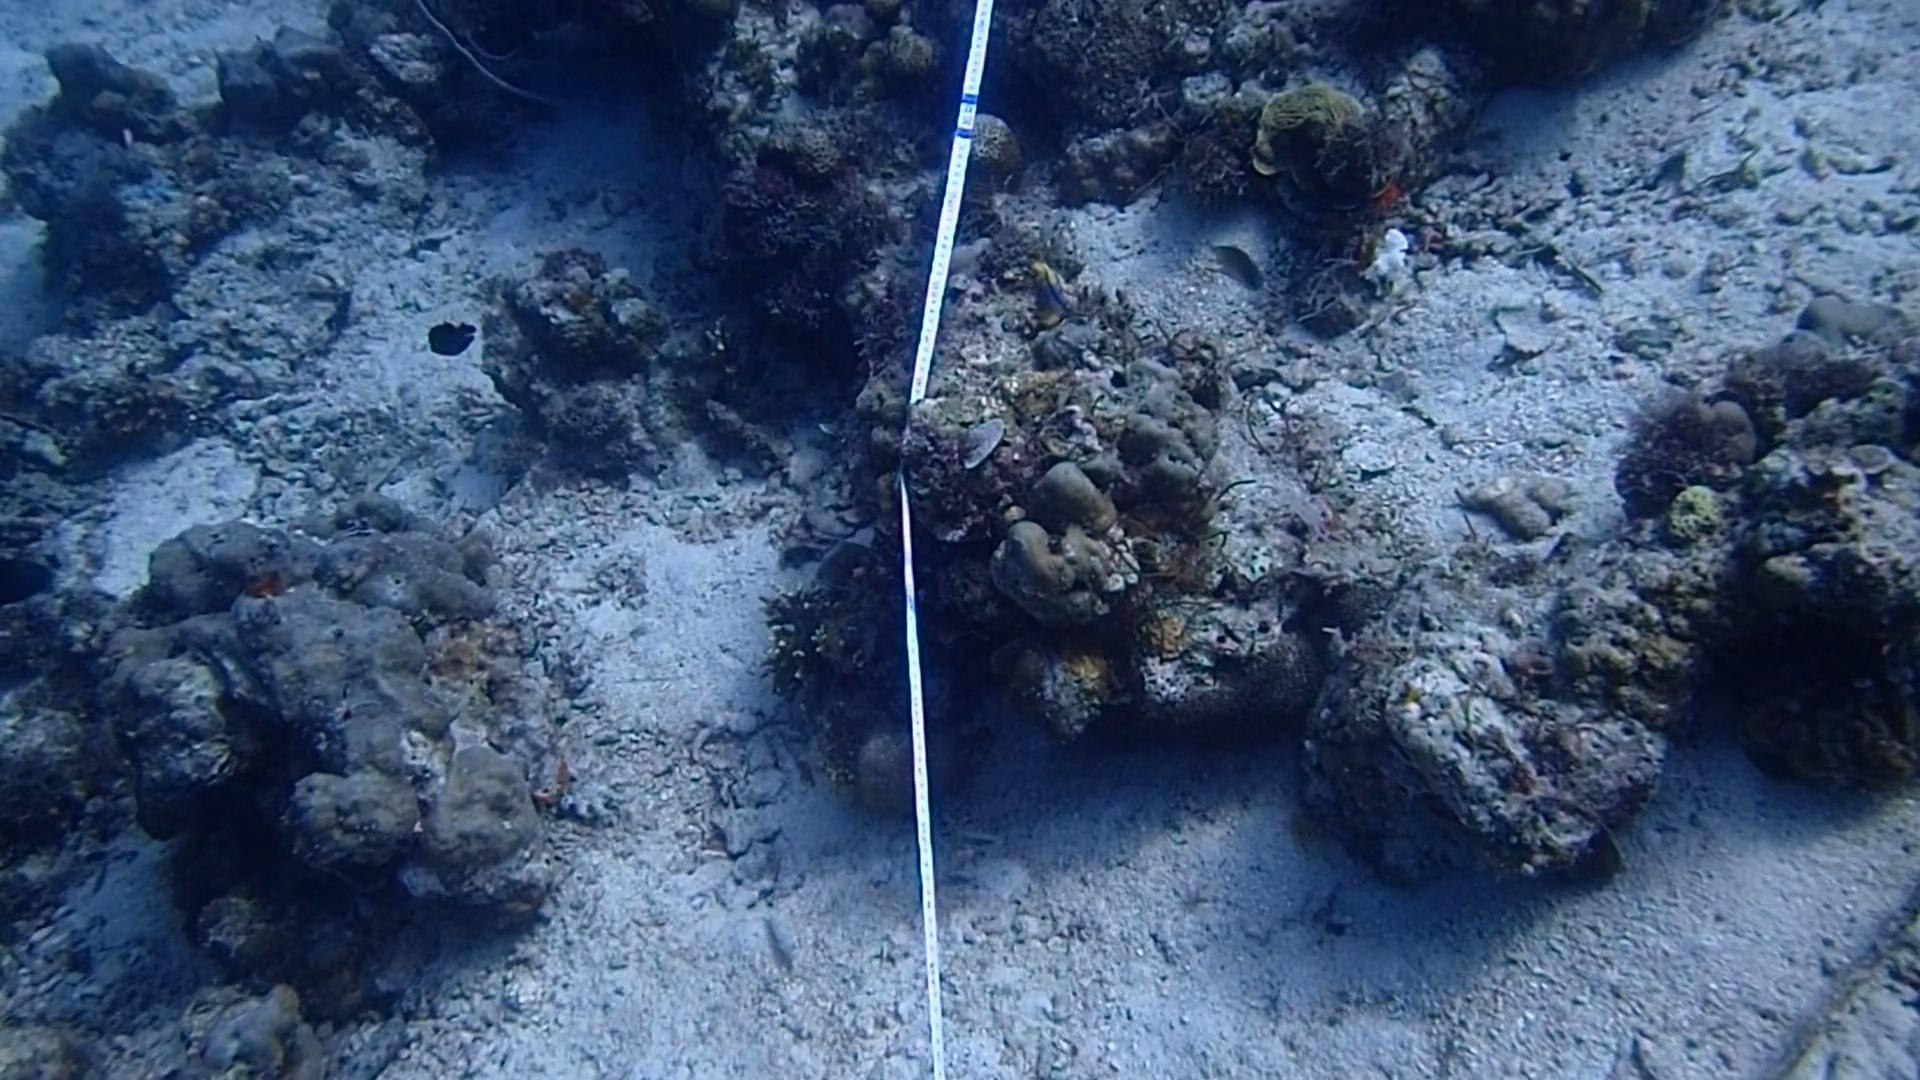Dark Fish: (418, 307, 487, 365), (0, 555, 58, 612)
Light Fish: (1200, 235, 1273, 302)
